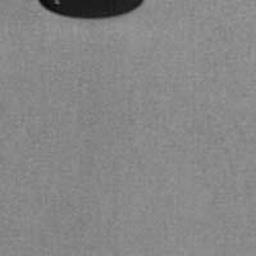Punching: (37, 0, 142, 19)
